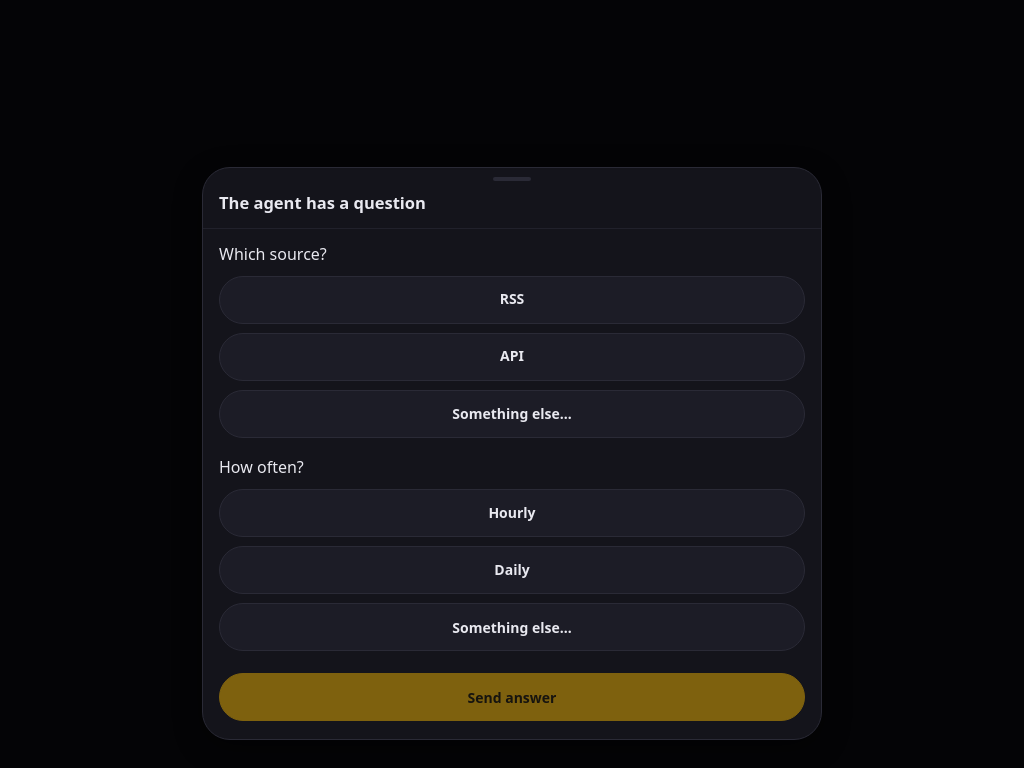
Scenario: a batch of questions › refuses to send until every question is answered
This screenshot has width=1024, height=768.
Expected: the button "Send answer" is disabled, x1=219 y1=673 x2=805 y2=721
Click the button "RSS" at coordinates (512, 300), box x1=219 y1=276 x2=805 y2=324
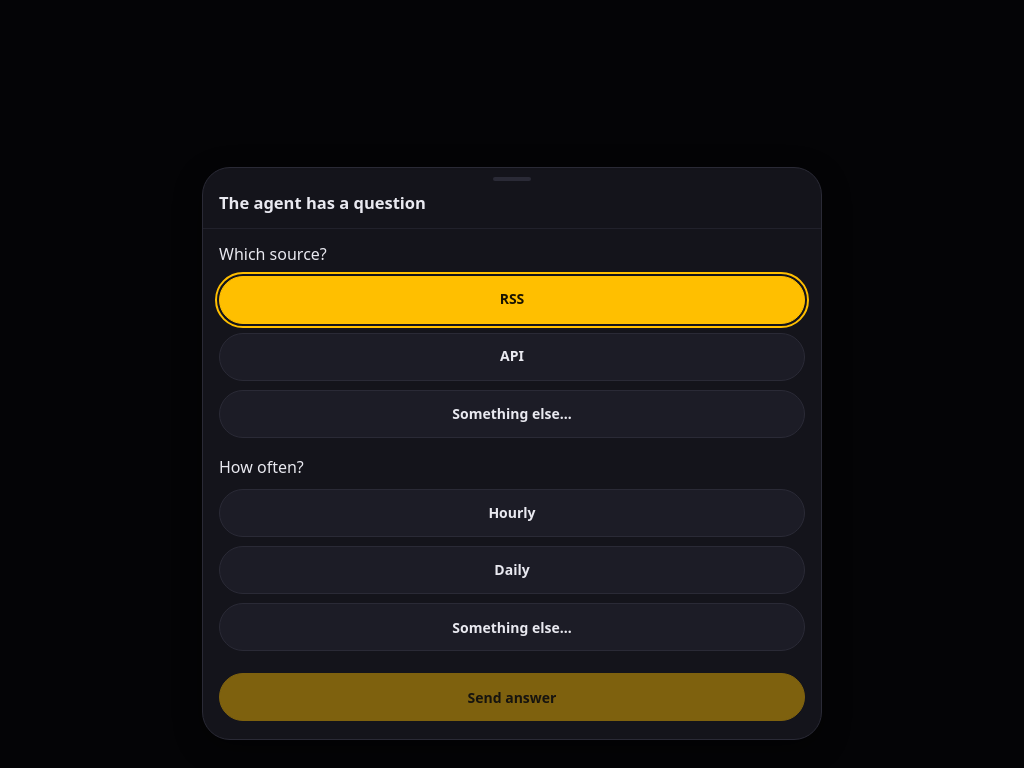
Expected: the button "Send answer" is disabled, x1=219 y1=673 x2=805 y2=721
Click the button "Daily" at coordinates (512, 570), box x1=219 y1=546 x2=805 y2=594
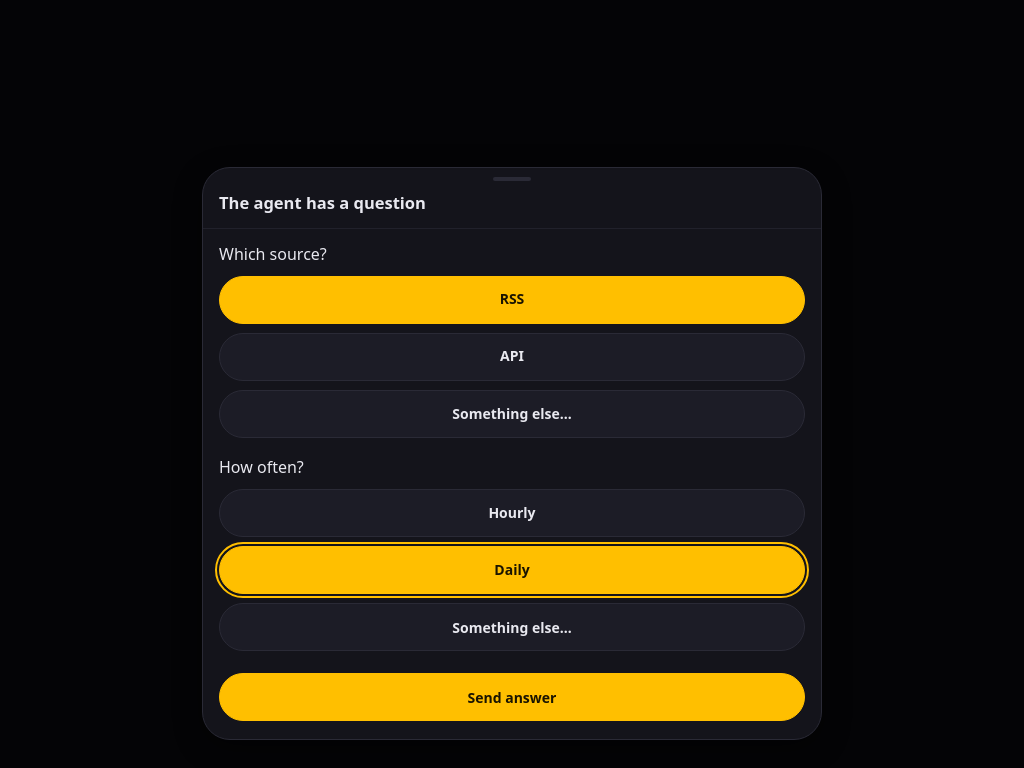
Now the button "Send answer" is enabled, box x1=219 y1=673 x2=805 y2=721
